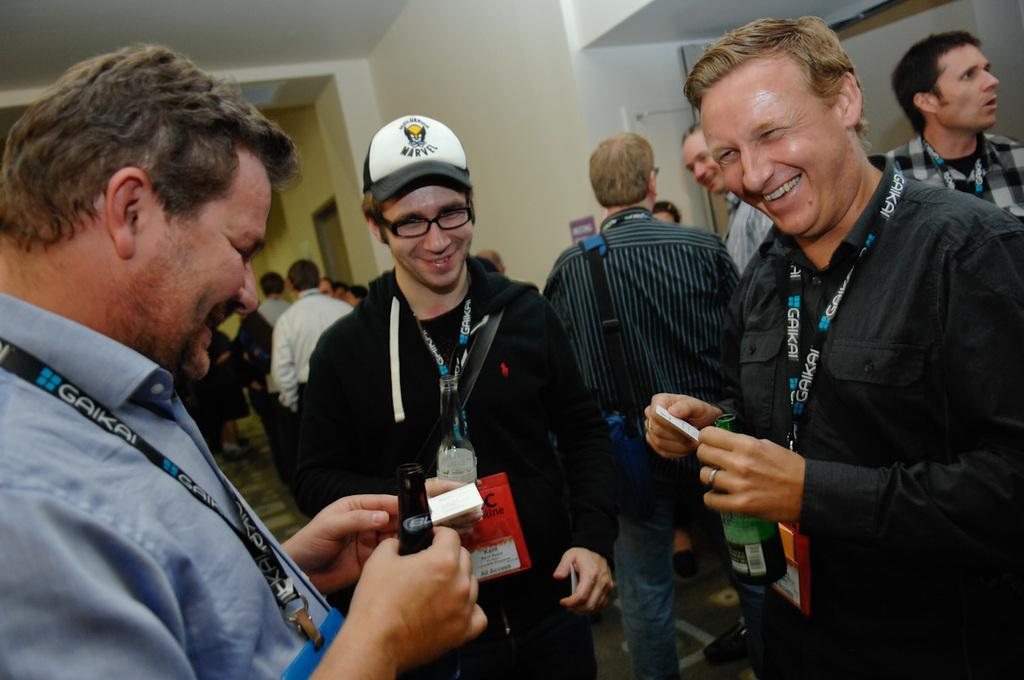Hat: (359, 112, 476, 202)
